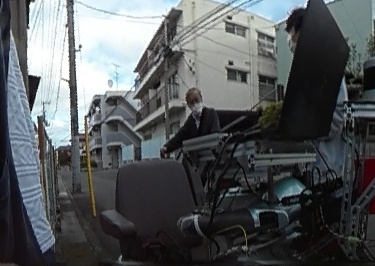person: (163, 91, 220, 148)
